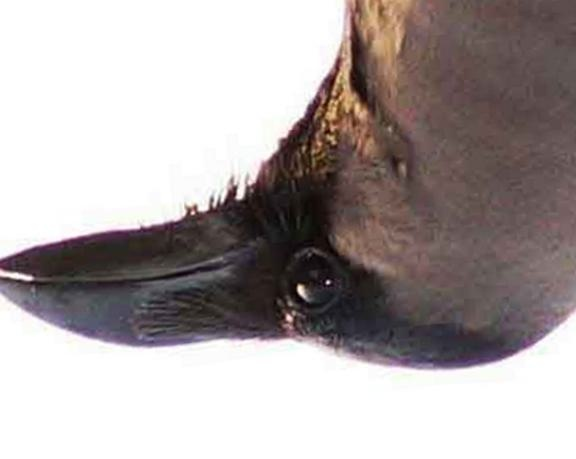crow: (6, 1, 576, 372)
